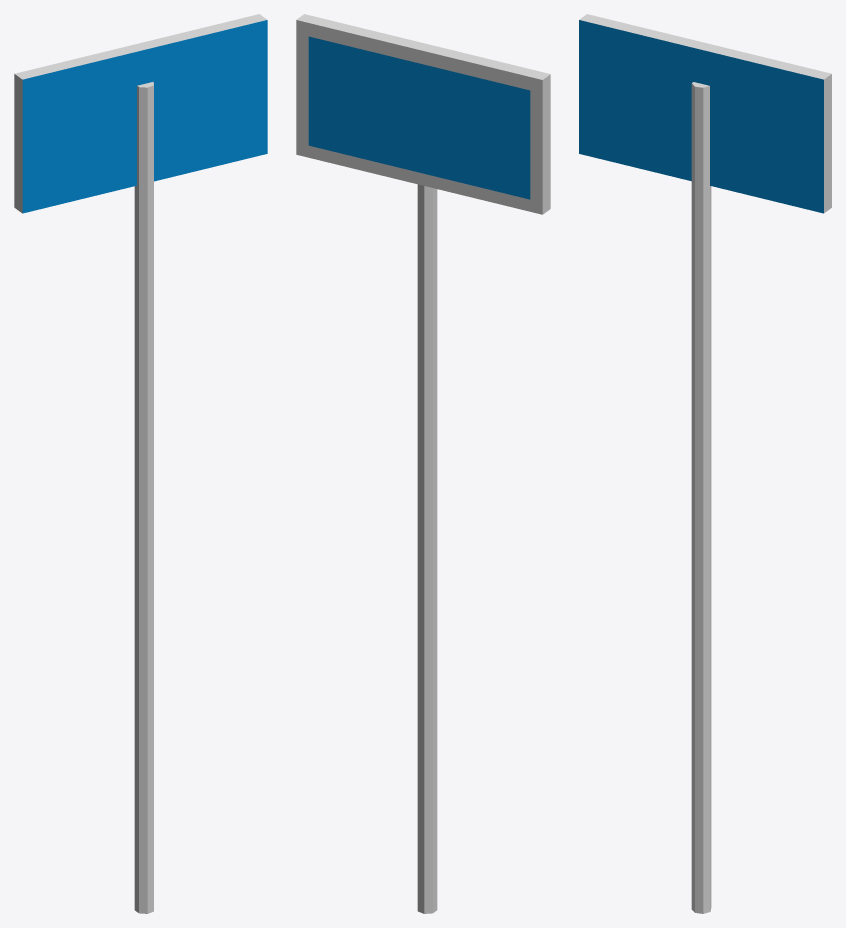
The model's file is Street_Sign.fbx.
3 renders of one model, left to right at view 1: azimuth 30°, elevation 25°; view 2: azimuth 150°, elevation 25°; view 3: azimuth 330°, elevation 25°, orthographic.
Visible parts, largest first — view 1: Street_Sign; view 2: Street_Sign; view 3: Street_Sign.
Boxes of the visible parts, bbox=[...] form: Street_Sign: bbox=[14, 14, 267, 913]; Street_Sign: bbox=[296, 14, 550, 913]; Street_Sign: bbox=[579, 14, 831, 913].
Size of the model in its own units: 8.11 by 27.22 by 0.7249.
